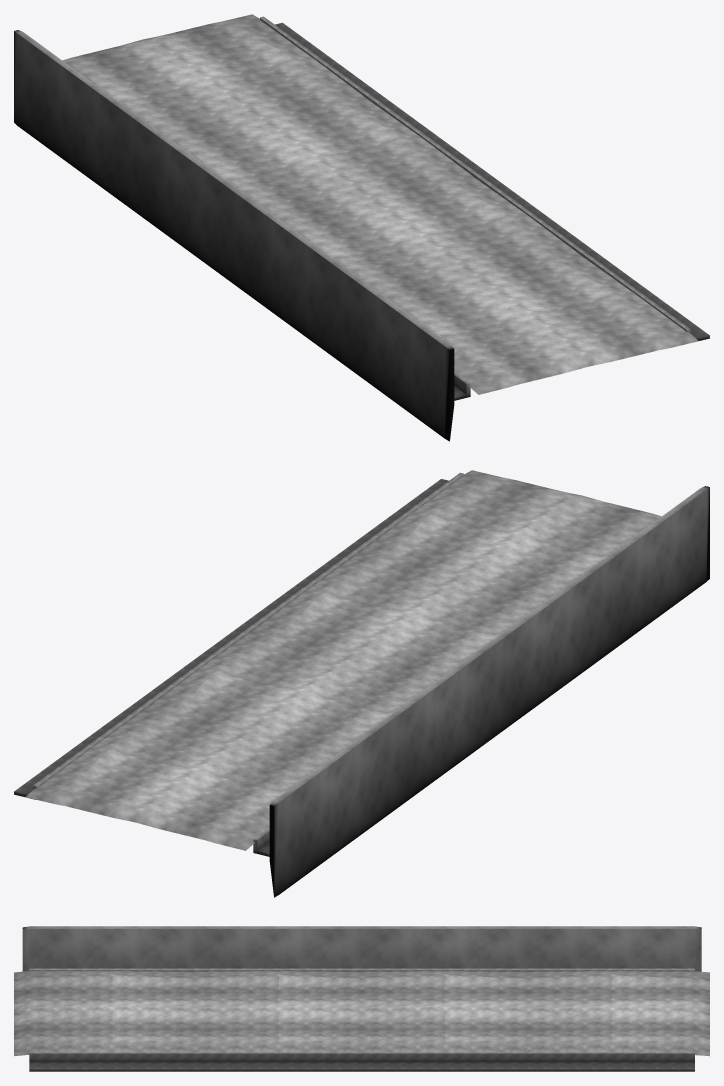
The model's file is AMB_HT_JARI_R_WALL.glb.
The picture shows the model from 3 angles, top to bottom: view 1: azimuth 30°, elevation 25°; view 2: azimuth 150°, elevation 25°; view 3: azimuth 270°, elevation 25°; orthographic projection. The views are drawn at different scales.
Visible parts, largest first — view 1: Mesh1; view 2: Mesh1; view 3: Mesh1.
Part boxes in pixels (x1,y1,x2,y2): Mesh1: (14,14,709,441); Mesh1: (14,470,709,897); Mesh1: (14,926,709,1071).
Bounding box in the file's own units: 35.82 × 11.93 × 105.
2 materials, 2 textured.
